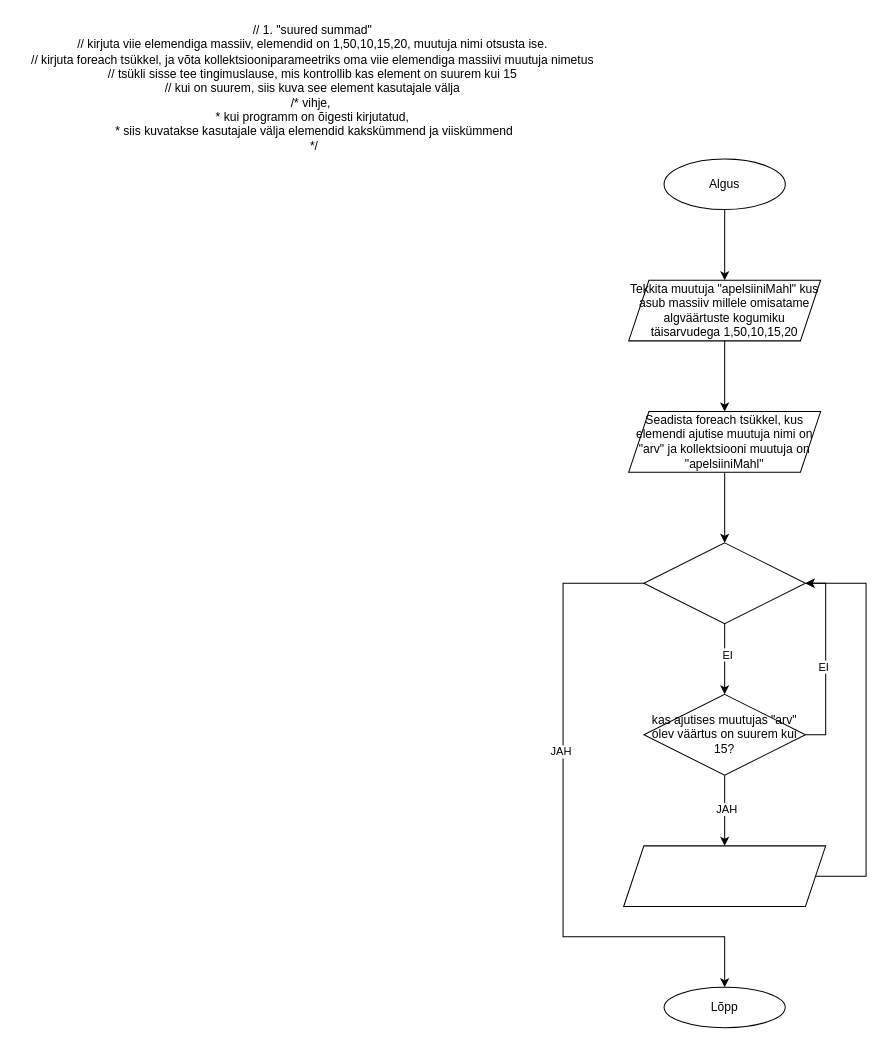
Some shapes in this 892 by 1045 pixel diagram are drawn without their labels. The box of each missing label's shape, as (x1, y1, x2, y2) in pixels:
Kas eilmine element oli kollektsioonis viimane element?: (643, 542, 805, 624)
Kuva kasutajale muutuja "arv": (623, 845, 826, 906)
